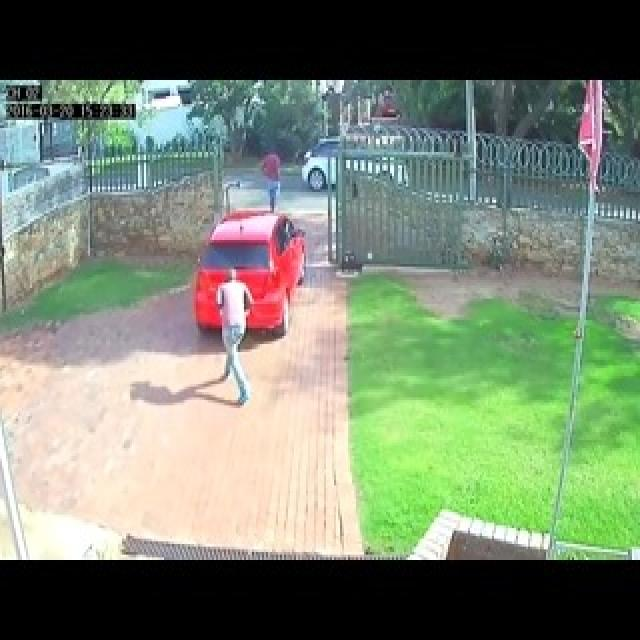thief: (213, 260, 260, 366), (251, 153, 289, 216)
